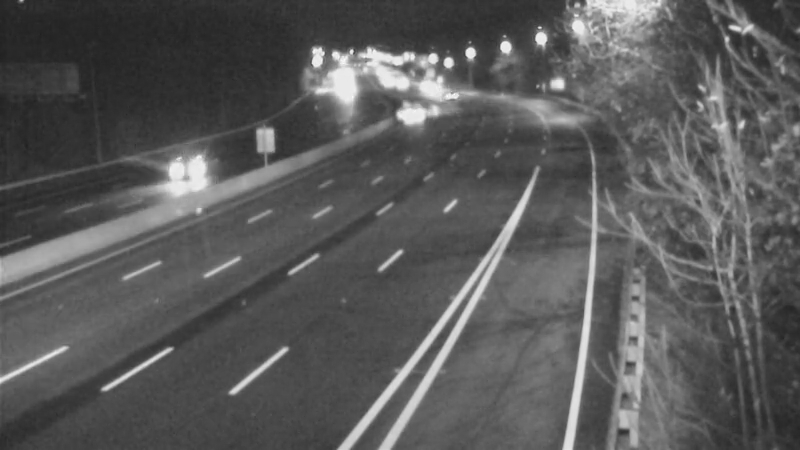vehicle: (143, 128, 223, 208), (405, 62, 455, 112), (426, 71, 476, 121), (391, 83, 441, 133)
